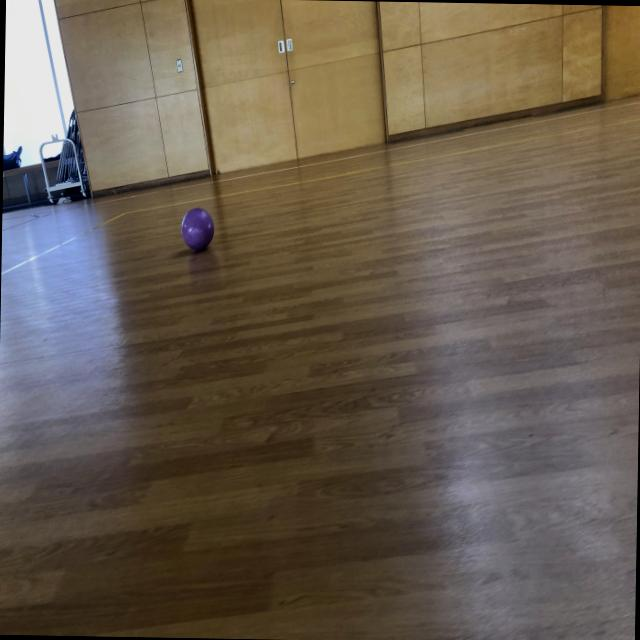purple_ball: (181, 206, 214, 252)
